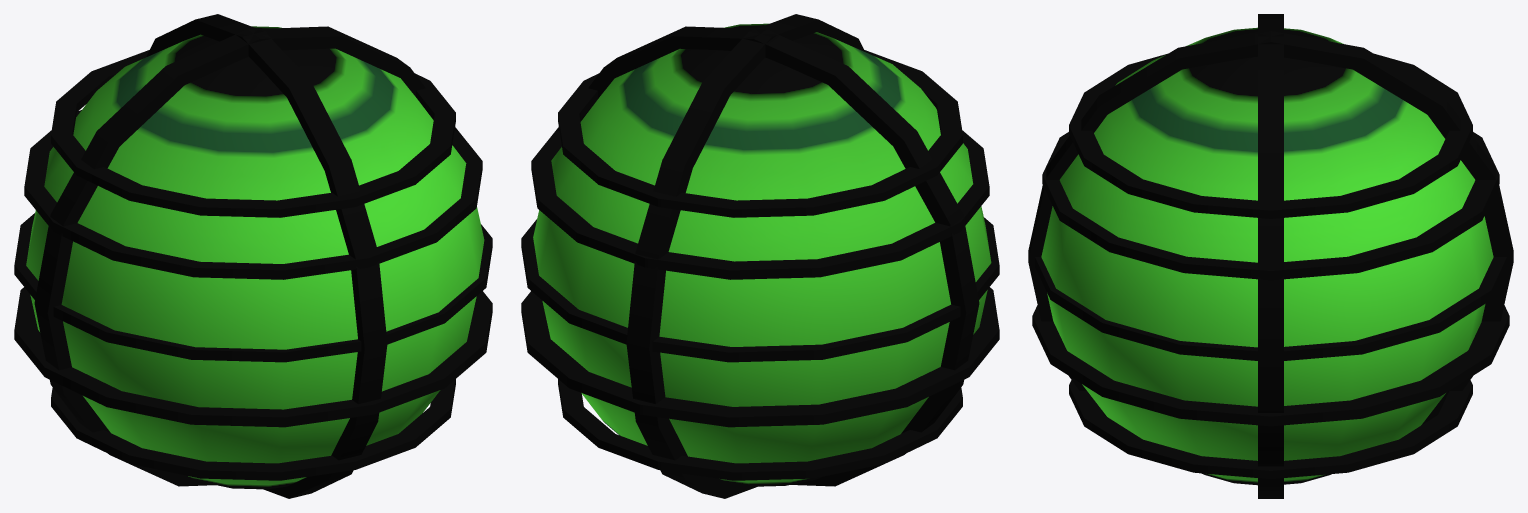
File: LanternGrn.fbx
3 renders of one model, left to right at view 1: azimuth 30°, elevation 25°; view 2: azimuth 150°, elevation 25°; view 3: azimuth 270°, elevation 25°, orthographic.
Visible parts, largest first — view 1: Sphere; view 2: Sphere; view 3: Sphere.
Part boxes in pixels (x1=…): Sphere: x1=14, y1=14, x2=492, y2=498; Sphere: x1=521, y1=14, x2=999, y2=498; Sphere: x1=1028, y1=14, x2=1513, y2=498.
Size of the model in its own units: 211 by 211 by 211.
